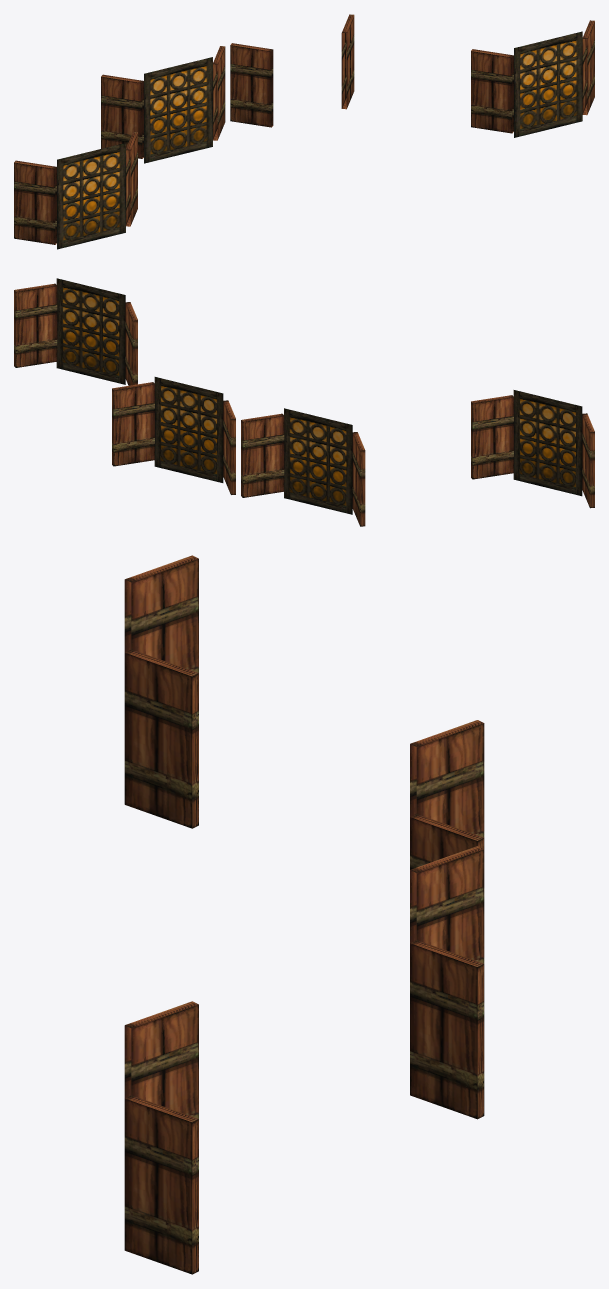
File: LAKETOWN_EXTERIOR_PS_LT_ROUND_WINDOW1_03.fbx
3 views of the same model, one above another, from view 1: azimuth 30°, elevation 25°; view 2: azimuth 150°, elevation 25°; view 3: azimuth 270°, elevation 25° (orthographic). The views are drawn at different scales.
Parts seen in each view (by area): view 1: LAKETOWN_EXTERIOR_PS_LT_ROUND_WINDOW1_03; view 2: LAKETOWN_EXTERIOR_PS_LT_ROUND_WINDOW1_03; view 3: LAKETOWN_EXTERIOR_PS_LT_ROUND_WINDOW1_03.
Boxes of the visible parts, bbox=[...] form: LAKETOWN_EXTERIOR_PS_LT_ROUND_WINDOW1_03: bbox=[14, 14, 594, 249]; LAKETOWN_EXTERIOR_PS_LT_ROUND_WINDOW1_03: bbox=[14, 278, 594, 526]; LAKETOWN_EXTERIOR_PS_LT_ROUND_WINDOW1_03: bbox=[124, 555, 484, 1274].
Bounding box in the file's own units: 99064 × 15452 × 26533.
Materials: 2 (2 with a texture image).
